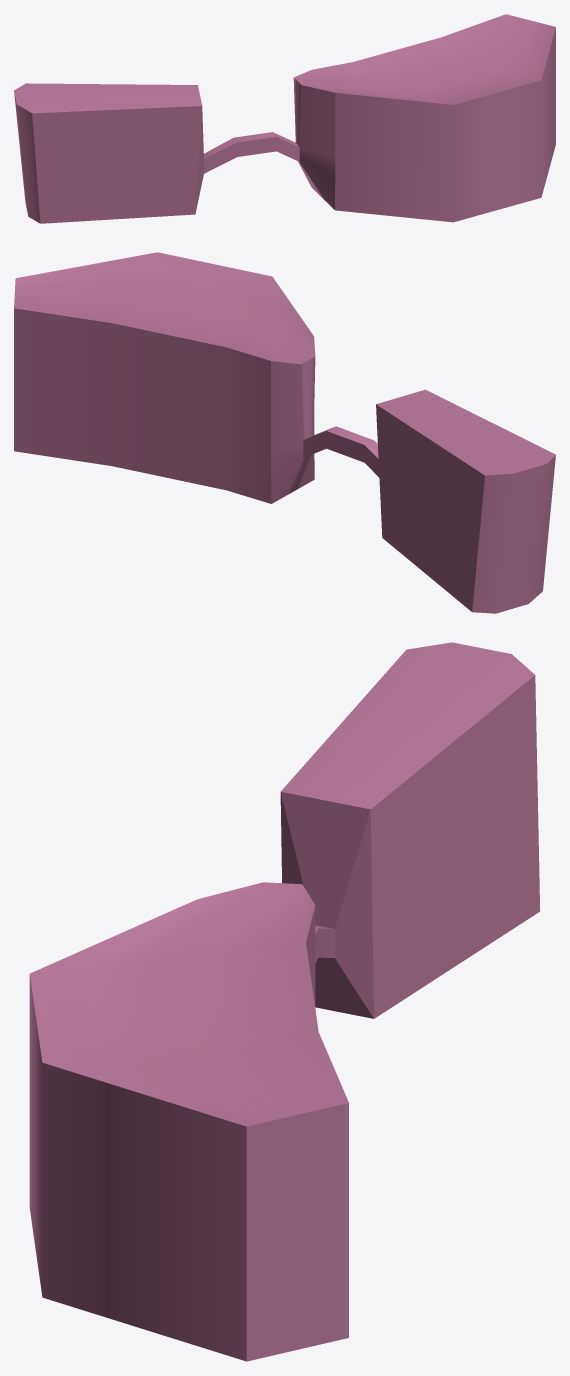
Rendered from terrain_W3lakea.fbx.
3 views of the same model, one above another, from view 1: azimuth 30°, elevation 25°; view 2: azimuth 150°, elevation 25°; view 3: azimuth 270°, elevation 25° (orthographic). The views are drawn at different scales.
Parts seen in each view (by area): view 1: W3lakea_mesh; view 2: W3lakea_mesh; view 3: W3lakea_mesh.
Boxes of the visible parts, x1,y1,x2,y2 form: W3lakea_mesh: (14, 14, 555, 223); W3lakea_mesh: (14, 252, 555, 613); W3lakea_mesh: (29, 642, 540, 1361).
Bounding box in the file's own units: 23981 × 5712 × 10866.
